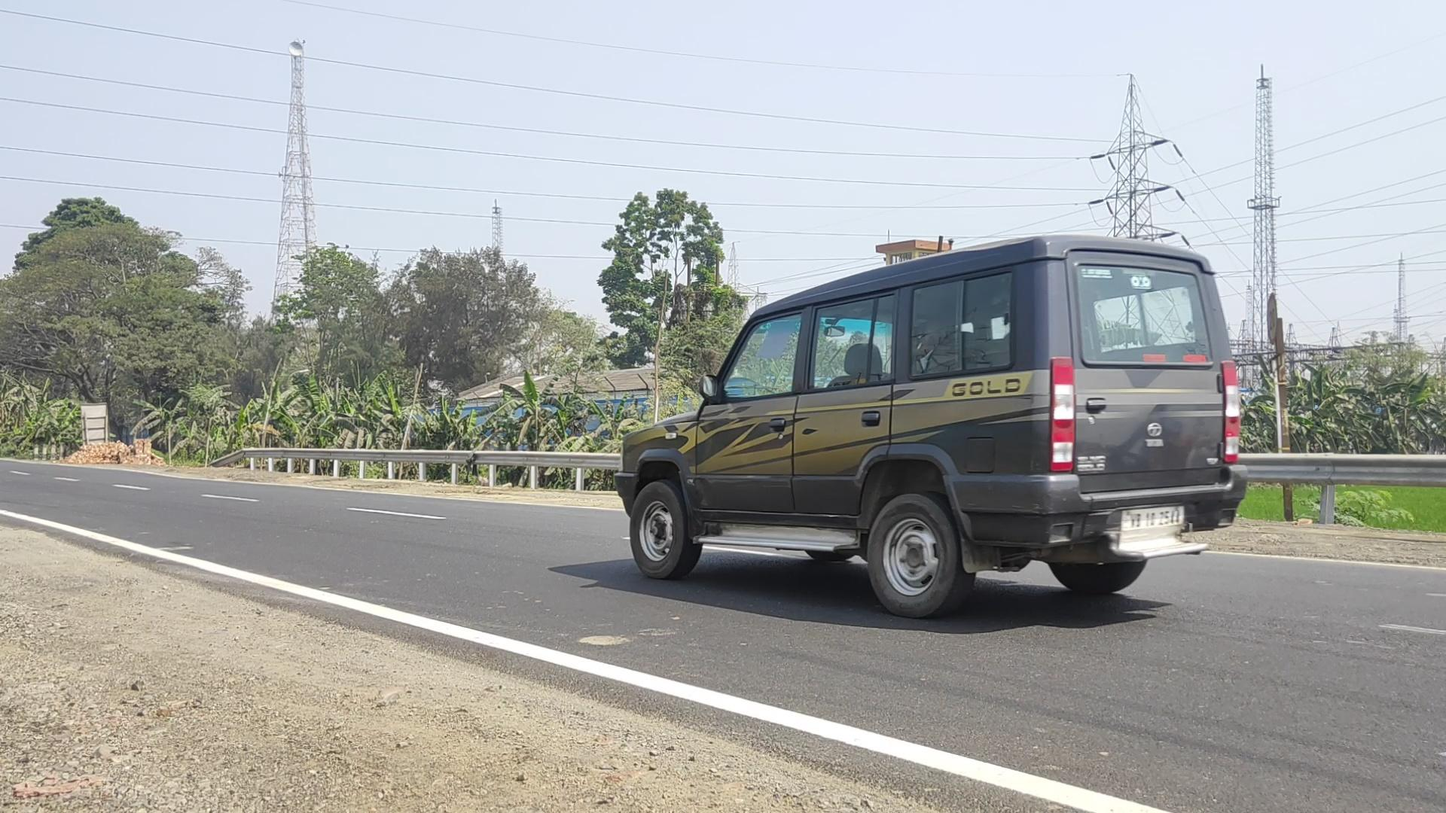car: (617, 233, 1246, 622)
